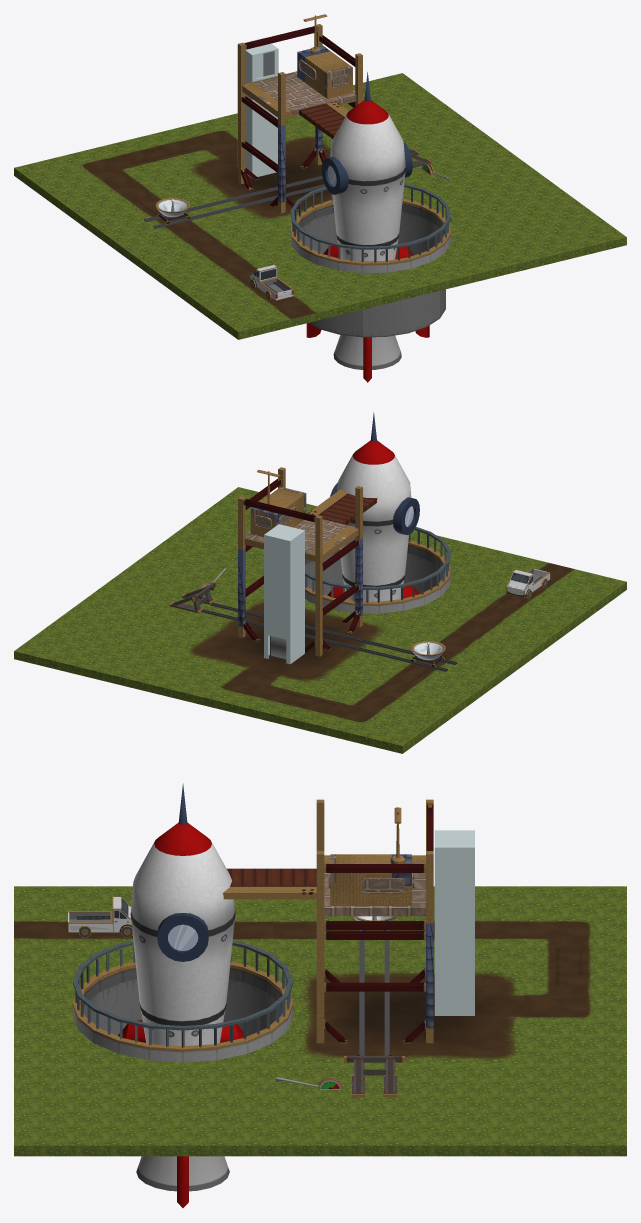
The model's file is Space_level.fbx.
The picture shows the model from 3 angles, top to bottom: view 1: azimuth 30°, elevation 25°; view 2: azimuth 150°, elevation 25°; view 3: azimuth 270°, elevation 25°; orthographic projection. The views are drawn at different scales.
Visible parts, largest first — view 1: Space_level, Rocket, Elevator_shaft, Car, Bridge_01, Satellite_cart; view 2: Space_level, Rocket, Elevator_shaft, Car, Bridge_01, Satellite_cart, Bridge_02; view 3: Space_level, Rocket, Elevator_shaft, Bridge_01, Car, Bridge_02.
Part boxes in pixels (x1,y1,x2,y2): Space_level: (14, 15, 626, 339); Rocket: (306, 72, 429, 382); Elevator_shaft: (237, 38, 278, 178); Car: (250, 265, 293, 300); Bridge_01: (299, 101, 348, 127); Satellite_cart: (155, 198, 190, 224); Space_level: (14, 467, 626, 753); Rocket: (327, 412, 419, 601); Elevator_shaft: (264, 524, 304, 664); Car: (506, 568, 550, 597); Bridge_01: (307, 502, 355, 524); Satellite_cart: (411, 641, 445, 666); Bridge_02: (324, 489, 377, 512); Space_level: (14, 799, 626, 1156); Rocket: (118, 783, 246, 1207); Elevator_shaft: (434, 830, 474, 1015); Bridge_01: (270, 868, 316, 899); Car: (68, 896, 131, 932); Bridge_02: (222, 868, 270, 899).
Size of the model in its own units: 23.82 by 16.7 by 23.82.
